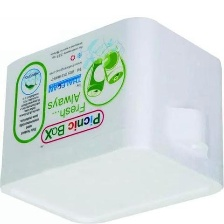foam_box: (0, 14, 224, 224)
